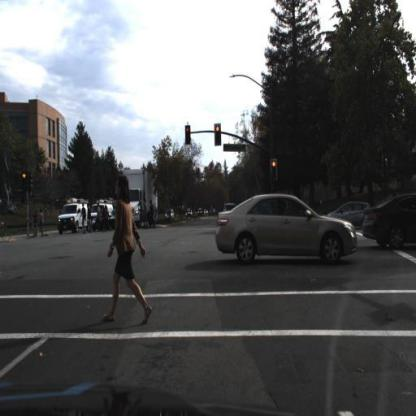biker: (1, 213, 13, 246)
car: (216, 192, 360, 263), (363, 196, 416, 251), (118, 167, 159, 219), (329, 200, 373, 232), (57, 201, 90, 233), (89, 202, 115, 225)
pedestrian: (101, 172, 153, 327), (29, 206, 40, 240), (38, 206, 49, 237), (139, 194, 147, 227), (33, 207, 41, 239), (116, 200, 124, 232), (130, 194, 138, 226), (148, 198, 155, 226), (142, 202, 149, 229), (150, 201, 155, 229)
trafficLight-Red: (215, 122, 224, 150), (271, 158, 279, 184)
trafficLight-RedLeft: (20, 171, 32, 196), (185, 124, 194, 147), (23, 169, 28, 187)
truck: (120, 168, 158, 226)
